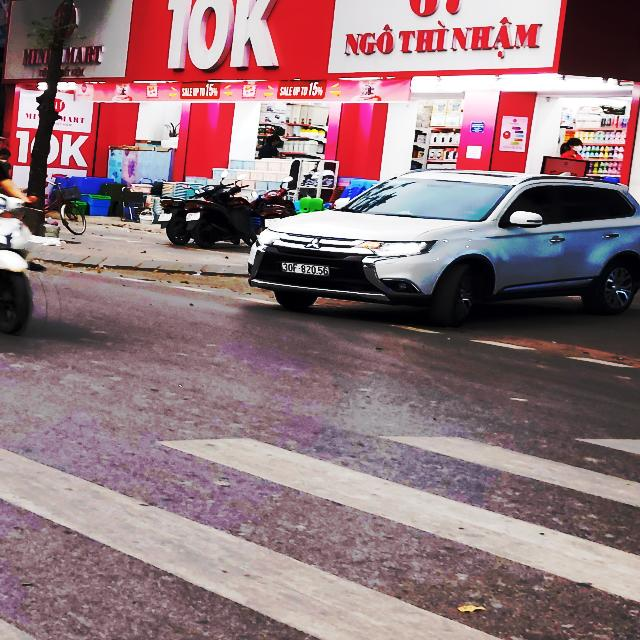license_plate: (280, 260, 334, 279)
